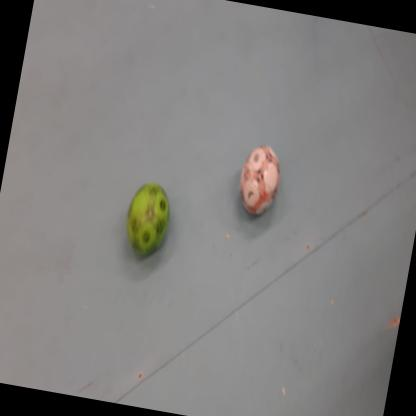ball: (121, 180, 174, 258), (234, 141, 285, 220)
